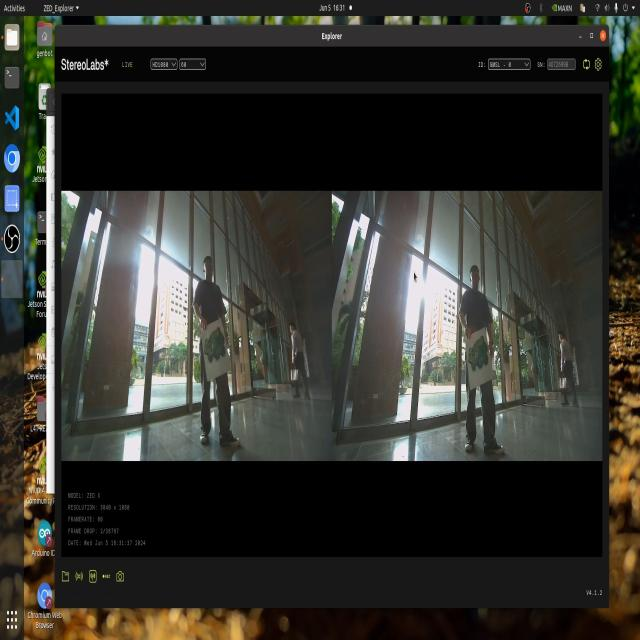green: (204, 311, 235, 374), (468, 329, 487, 377)
